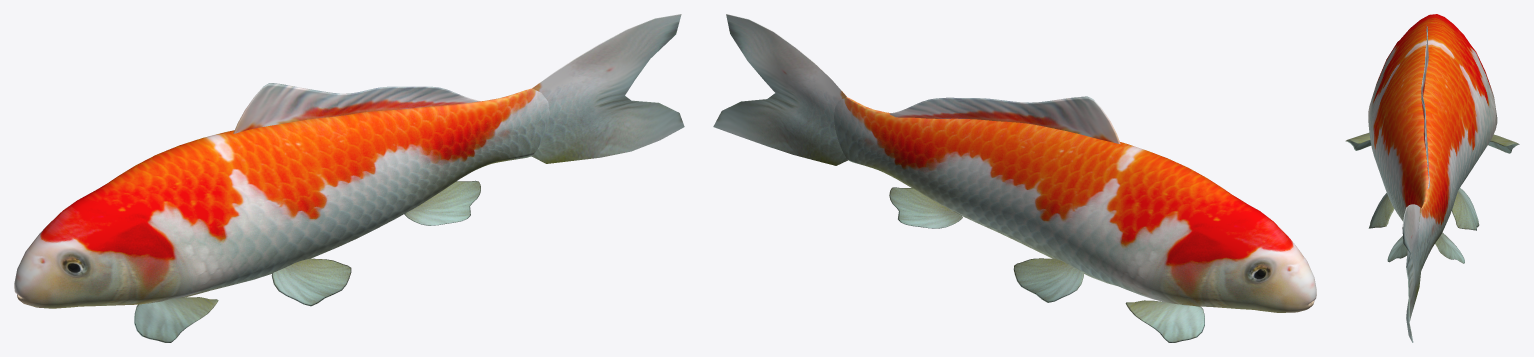
The model's file is O_A_S_N_jinyu.FBX.
3 views of the same model, side by side, from view 1: azimuth 30°, elevation 25°; view 2: azimuth 150°, elevation 25°; view 3: azimuth 270°, elevation 25° (orthographic). The views are drawn at different scales.
Visible parts, largest first — view 1: 对象001, jinyu; view 2: 对象001, jinyu; view 3: 对象001, jinyu.
Boxes of the visible parts, x1,y1,x2,y2 form: 对象001: (14,14,684,308); jinyu: (134,83,480,342); 对象001: (713,14,1316,312); jinyu: (889,96,1204,342); 对象001: (1368,14,1497,342); jinyu: (1345,25,1519,263).
Size of the model in its own units: 0.997 by 0.297 by 0.2444.
